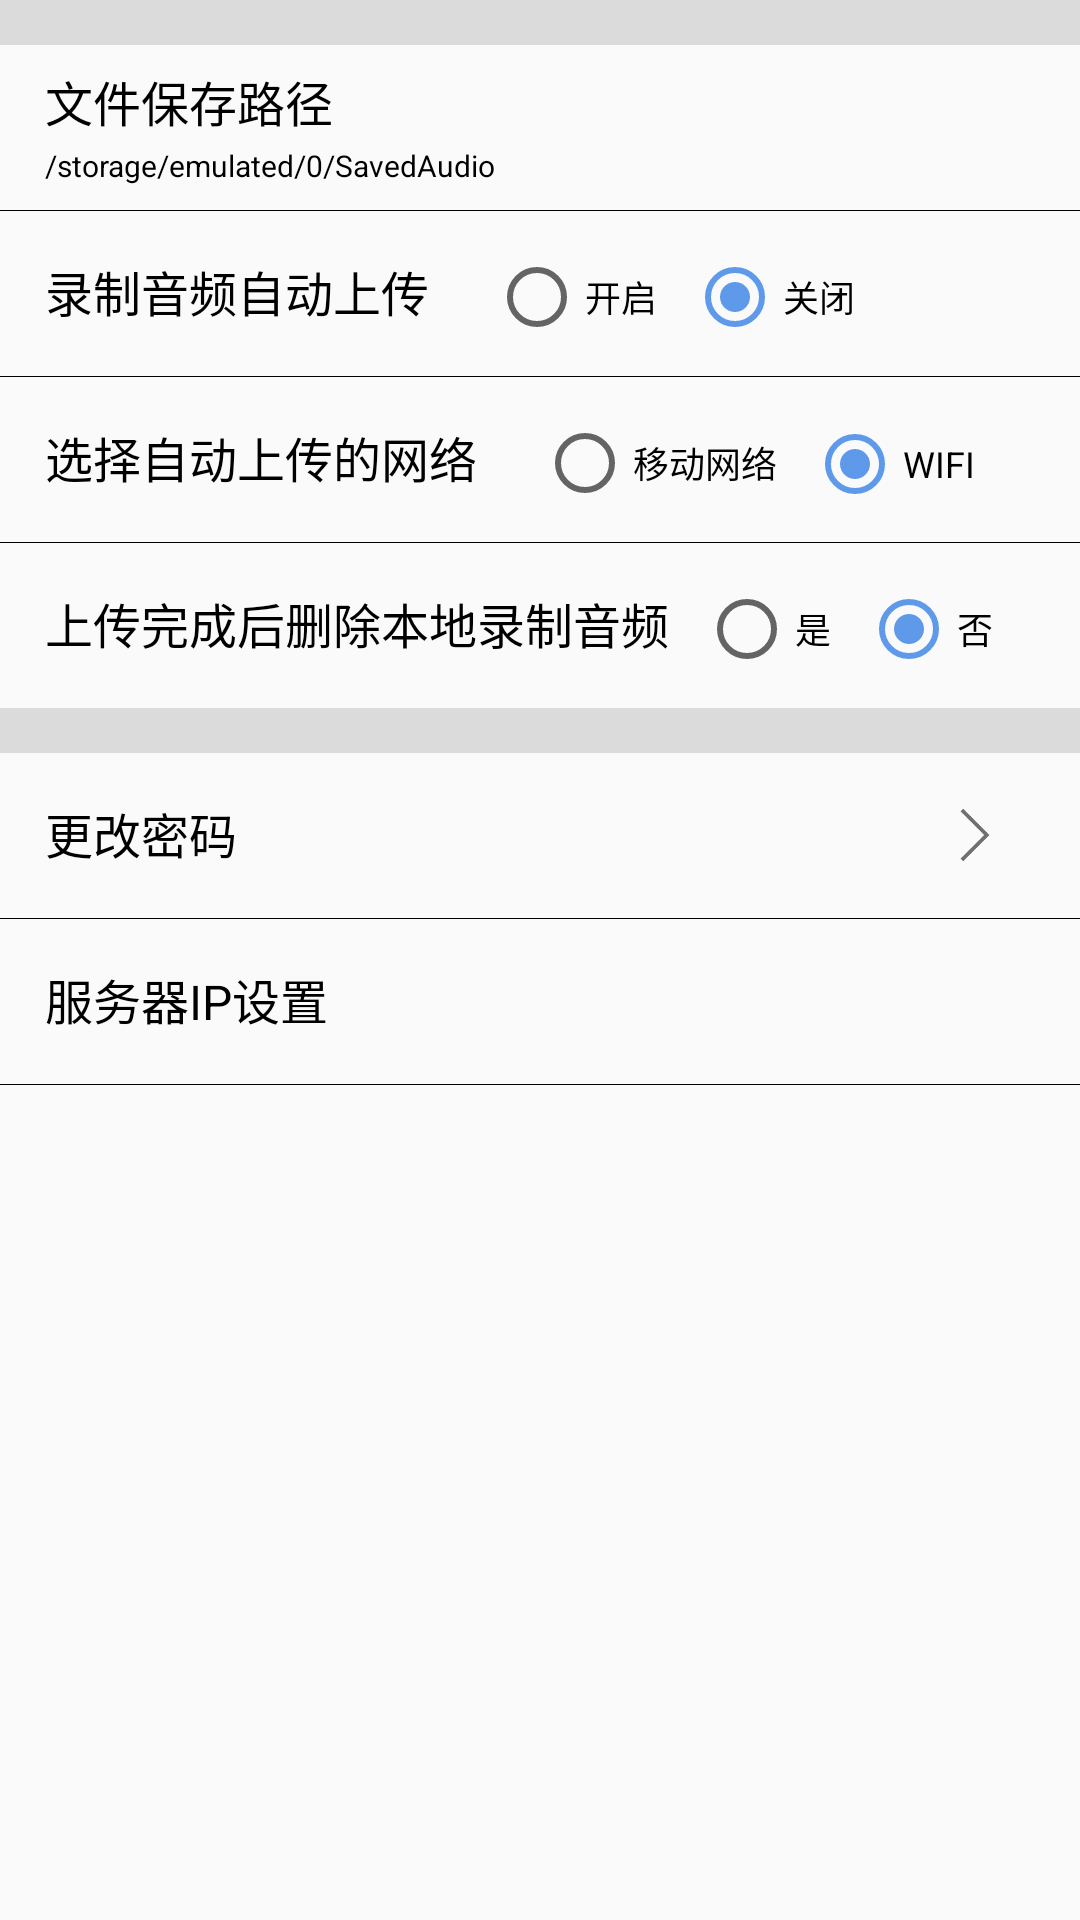

Icon click points for this 1080px×1920px phone screenshot, format (x=x, y=y):
forwardbtn: (x=974, y=835)
